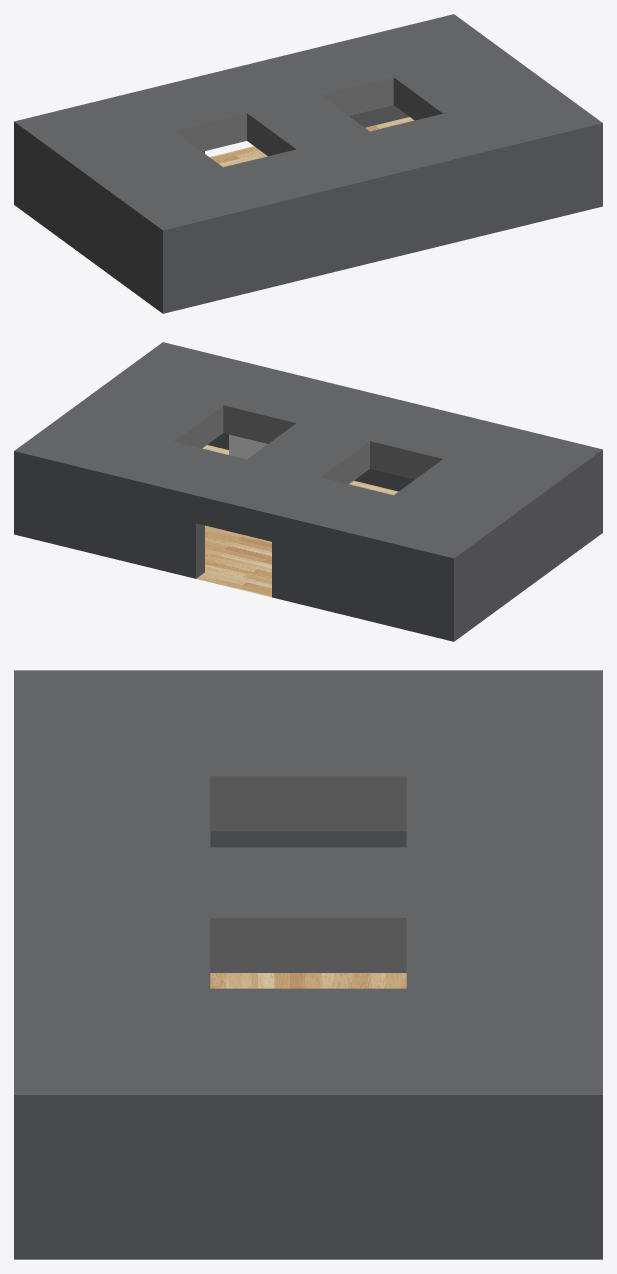
Rendered from room_v4.gltf.
3 renders of one model, top to bottom at view 1: azimuth 30°, elevation 25°; view 2: azimuth 150°, elevation 25°; view 3: azimuth 270°, elevation 25°, orthographic. The views are drawn at different scales.
Parts seen in each view (by area): view 1: facade, ceiling, floor, walls; view 2: facade, ceiling, floor, walls, pillars; view 3: facade, ceiling, walls, floor.
Part boxes in pixels (bbox=[...]): facade: bbox=[14, 14, 602, 313]; ceiling: bbox=[174, 77, 442, 156]; floor: bbox=[209, 117, 414, 167]; walls: bbox=[202, 105, 409, 153]; facade: bbox=[14, 342, 602, 641]; ceiling: bbox=[174, 405, 442, 484]; floor: bbox=[196, 445, 398, 597]; walls: bbox=[207, 433, 414, 491]; pillars: bbox=[229, 434, 267, 459]; facade: bbox=[14, 670, 602, 1259]; ceiling: bbox=[210, 776, 406, 972]; walls: bbox=[210, 831, 406, 847]; floor: bbox=[210, 973, 406, 988].
Bounding box in the file's own units: 116 × 21 × 68.
Materials: 4 (1 with a texture image).
